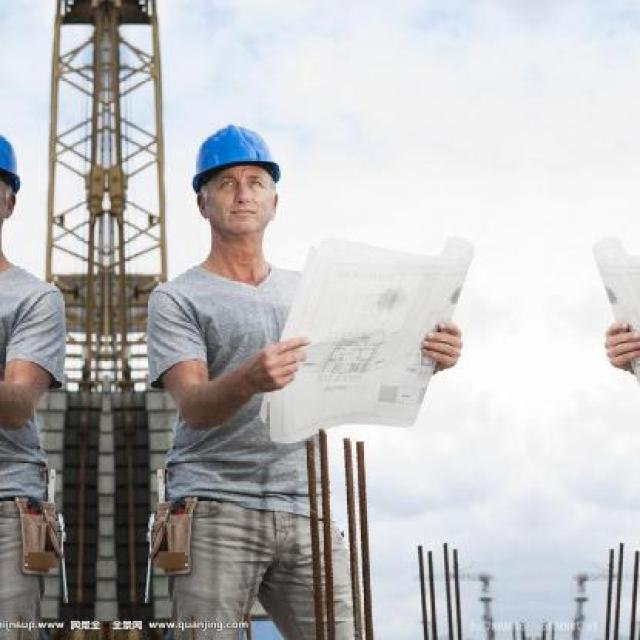helmet: (176, 102, 297, 267), (0, 101, 37, 268)
